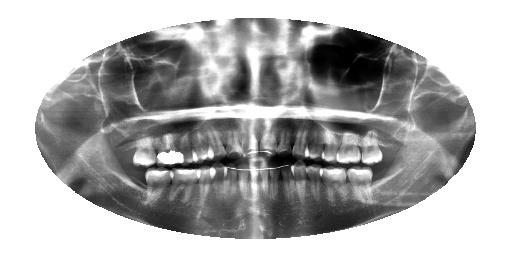i10healthy: (239, 162, 251, 199)
i11decay: (226, 161, 239, 202)
i12decay: (213, 161, 227, 204)
i13healthy: (199, 165, 213, 212)
i14healthy: (171, 166, 199, 206)
i15healthy: (144, 167, 173, 202)
i16loss: (121, 167, 144, 200)
i1loss: (372, 167, 390, 201)
i2healthy: (347, 166, 377, 209)
i3healthy: (318, 165, 347, 208)
i4healthy: (306, 163, 323, 204)
i5healthy: (290, 160, 308, 209)
i6decay: (282, 161, 292, 216)
i7decay: (269, 162, 282, 216)
i8chipped: (259, 156, 268, 208)
i9chipped: (248, 156, 259, 206)
u10decay: (226, 128, 245, 157)
u11healthy: (208, 127, 226, 158)
u12decay: (191, 126, 211, 165)
u13decay: (179, 131, 195, 165)
u14healthy: (158, 133, 177, 169)
u15healthy: (132, 134, 157, 167)
u16loss: (112, 139, 136, 165)
u1loss: (377, 137, 400, 166)
u2healthy: (361, 126, 384, 165)
u3healthy: (335, 128, 361, 165)
u4healthy: (320, 130, 339, 163)
u5healthy: (309, 127, 325, 160)
u6healthy: (291, 123, 311, 158)
u7decay: (274, 126, 294, 157)
u8chipped: (261, 126, 278, 158)
u9chipped: (245, 127, 260, 158)
